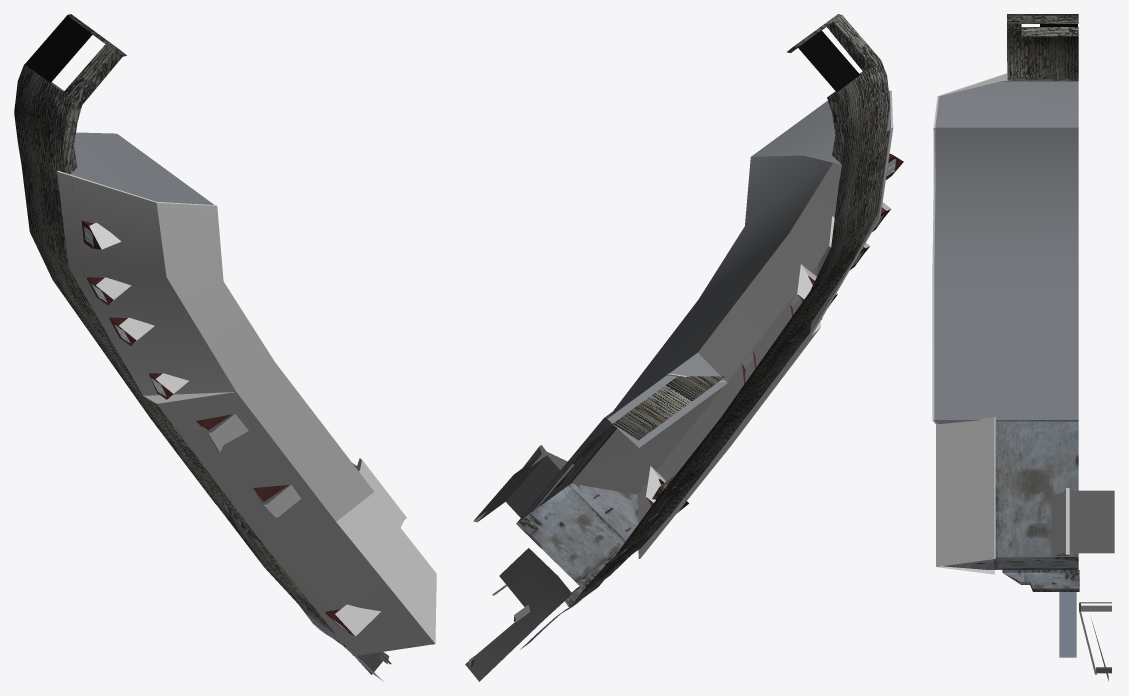
Rendered from Aida_8_10-origo.obj.
The picture shows the model from 3 angles, left to right: view 1: azimuth 30°, elevation 25°; view 2: azimuth 150°, elevation 25°; view 3: azimuth 270°, elevation 25°; orthographic projection. The views are drawn at different scales.
Parts seen in each view (by area): view 1: Aida_8_10; view 2: Aida_8_10; view 3: Aida_8_10.
Boxes of the visible parts, <box> form: Aida_8_10: <box>14,14,436,681</box>; Aida_8_10: <box>465,14,903,681</box>; Aida_8_10: <box>932,14,1114,680</box>.
Bounding box in the file's own units: 27.06 × 49 × 14.67.
